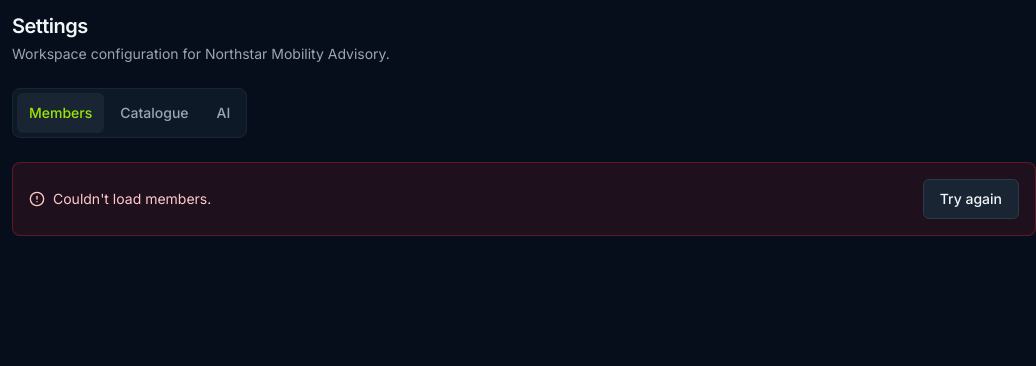
it: SettingsPage › shows a retryable error when members fail to load
Click the button "Try again".
click(971, 199)  # box [923,179,1019,219]
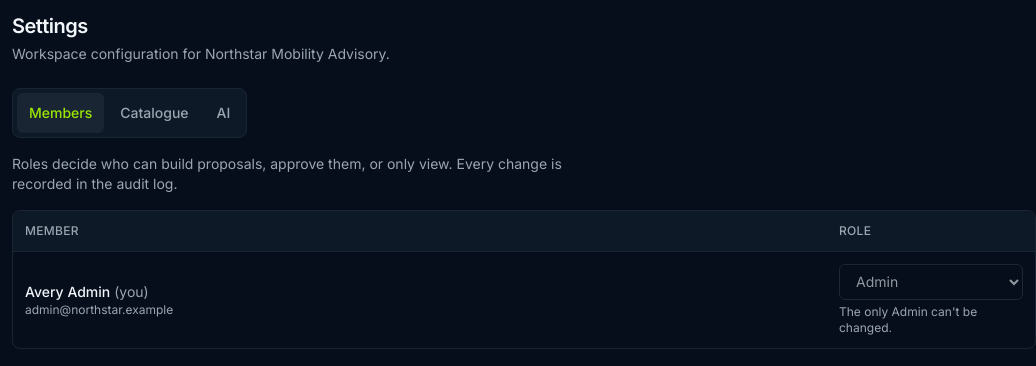
Check: the dropdown named "Role for Avery Admin" is shown, box [839,264,1023,300]
